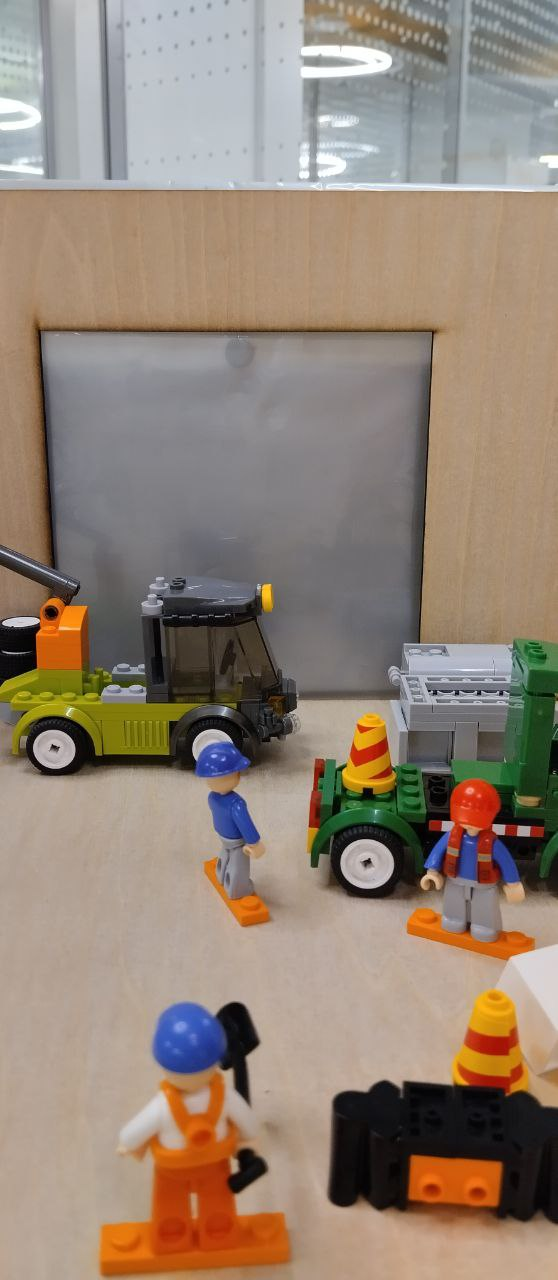Cone: (458, 990, 528, 1094), (348, 708, 395, 791)
Crane: (1, 538, 305, 770)
Object Black: (324, 1078, 558, 1230)
Truck: (306, 629, 558, 900)
